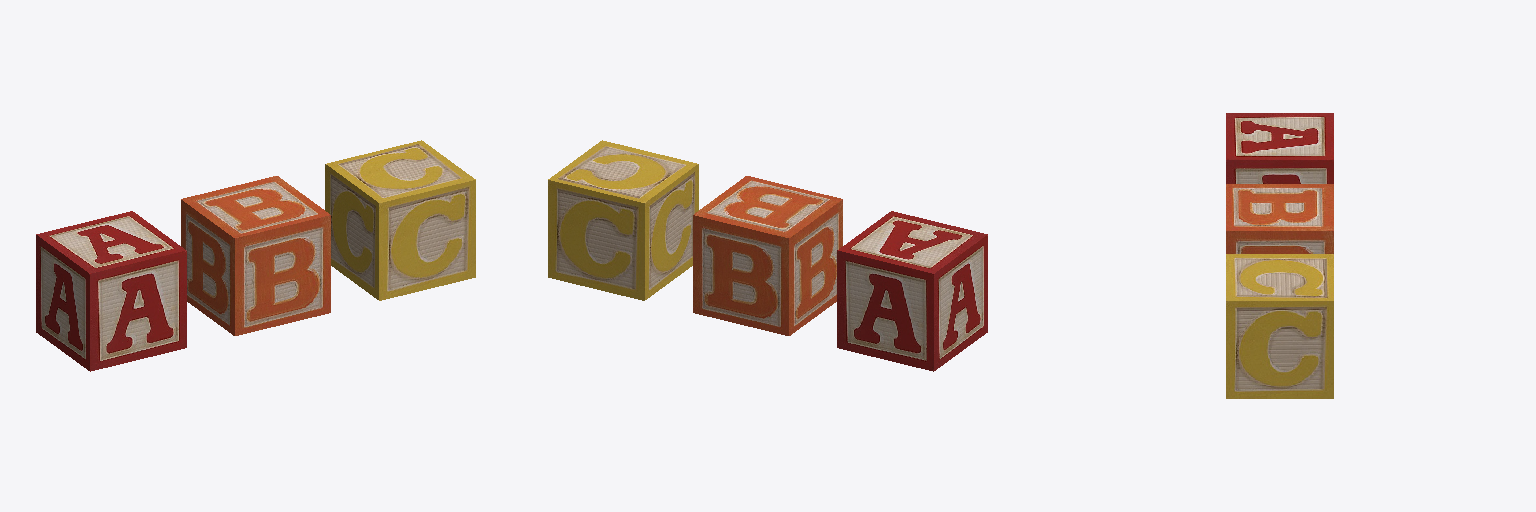
3 renders of one model, left to right at view 1: azimuth 30°, elevation 25°; view 2: azimuth 150°, elevation 25°; view 3: azimuth 270°, elevation 25°, orthographic.
Parts seen in each view (by area): view 1: Mesh3 Group3 Group_5_1 Untitled__3_1 Model, Mesh1 Group1 Group_1_1 Untitled__3_1 Model, Mesh2 Group2 Group_3_1 Untitled__3_1 Model; view 2: Mesh3 Group3 Group_5_1 Untitled__3_1 Model, Mesh1 Group1 Group_1_1 Untitled__3_1 Model, Mesh2 Group2 Group_3_1 Untitled__3_1 Model; view 3: Mesh1 Group1 Group_1_1 Untitled__3_1 Model, Mesh3 Group3 Group_5_1 Untitled__3_1 Model, Mesh2 Group2 Group_3_1 Untitled__3_1 Model.
Part boxes in pixels (x1,y1,x2,y2): Mesh3 Group3 Group_5_1 Untitled__3_1 Model: (36,211,186,371); Mesh1 Group1 Group_1_1 Untitled__3_1 Model: (325,140,475,300); Mesh2 Group2 Group_3_1 Untitled__3_1 Model: (181,176,330,335); Mesh3 Group3 Group_5_1 Untitled__3_1 Model: (837,211,987,371); Mesh1 Group1 Group_1_1 Untitled__3_1 Model: (548,140,698,300); Mesh2 Group2 Group_3_1 Untitled__3_1 Model: (693,176,842,335); Mesh1 Group1 Group_1_1 Untitled__3_1 Model: (1226,254,1333,398); Mesh3 Group3 Group_5_1 Untitled__3_1 Model: (1226,113,1333,183); Mesh2 Group2 Group_3_1 Untitled__3_1 Model: (1226,184,1333,253).
Bounding box in the file's own units: 186 × 45.19 × 45.19.
1 materials, 1 textured.